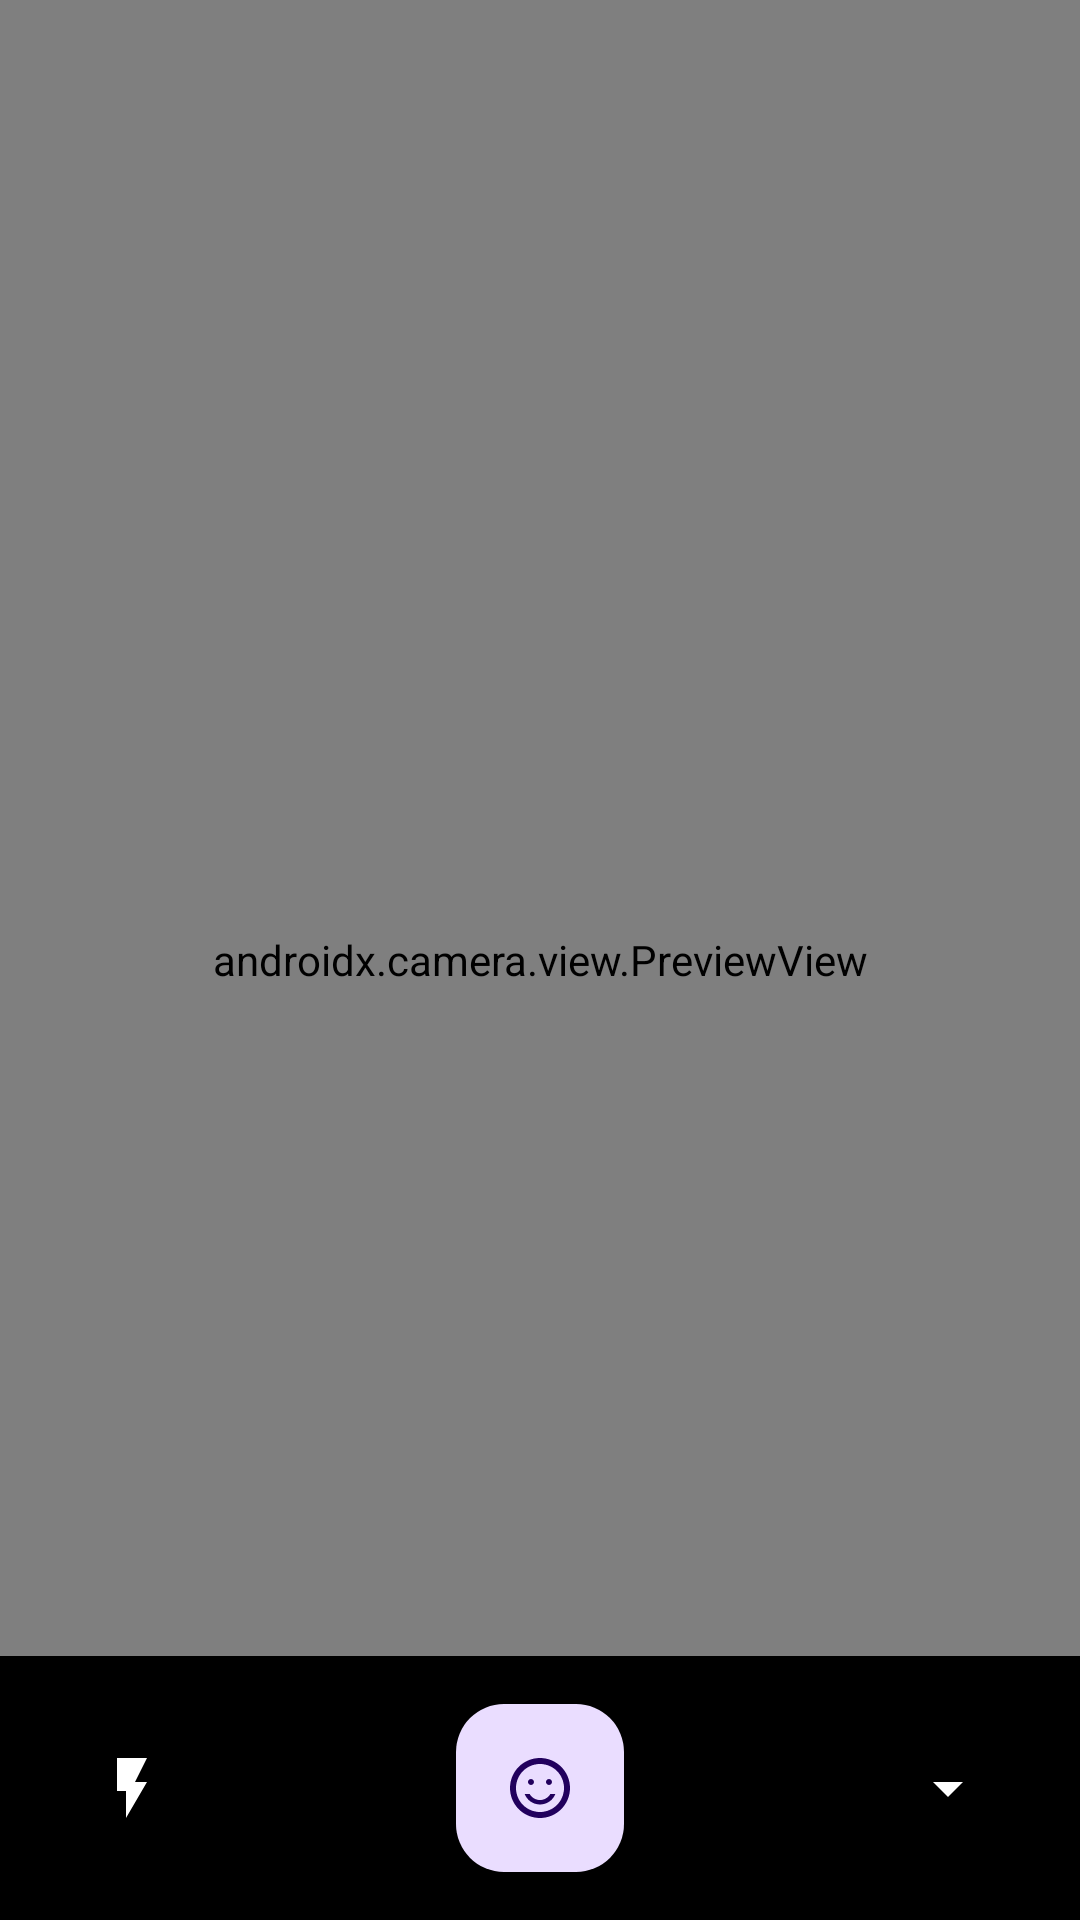

Point at icon controls on the screen. Image size 1080 x 1920, points as (x=x, y=y).
Flash Off: (x=132, y=1788)
